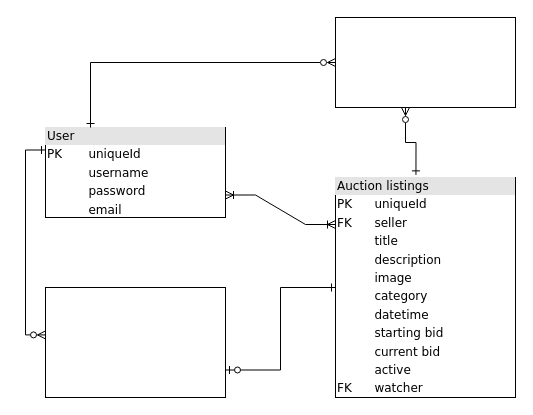
Some shapes in this 533 by 415 pixel diagram are drawn without their labels. The shapes that lost their labels are listed below. From the top down, each one's centre as x and y in pixels, then its label:
(x=425, y=62): Comment PK uniqueId FK user comment FK listing
(x=135, y=342): bid PK uniqueId FK user bidding FK listing datetime
